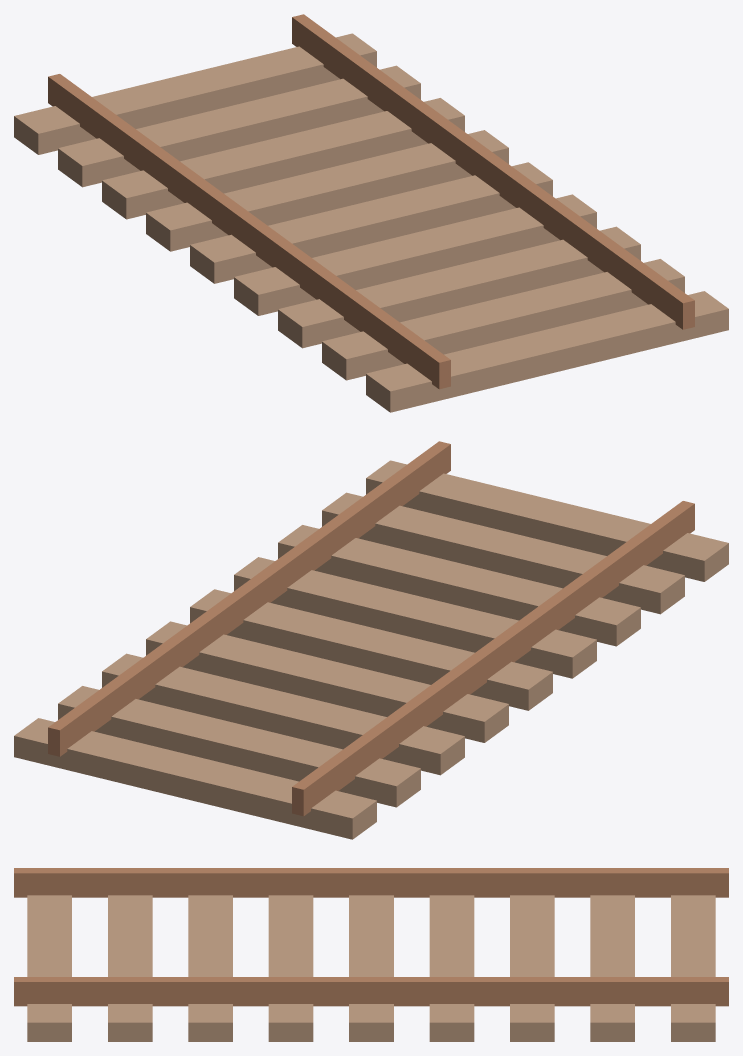
Rendered from rail_segment.glb.
3 renders of one model, top to bottom at view 1: azimuth 30°, elevation 25°; view 2: azimuth 150°, elevation 25°; view 3: azimuth 270°, elevation 25°, orthographic. The views are drawn at different scales.
Parts seen in each view (by area): view 1: rail_segment; view 2: rail_segment; view 3: rail_segment.
Boxes of the visible parts, x1,y1,x2,y2 form: rail_segment: [14, 14, 728, 412]; rail_segment: [14, 441, 728, 839]; rail_segment: [14, 868, 728, 1041].
Bounding box in the file's own units: 2 × 0.255 × 4.
